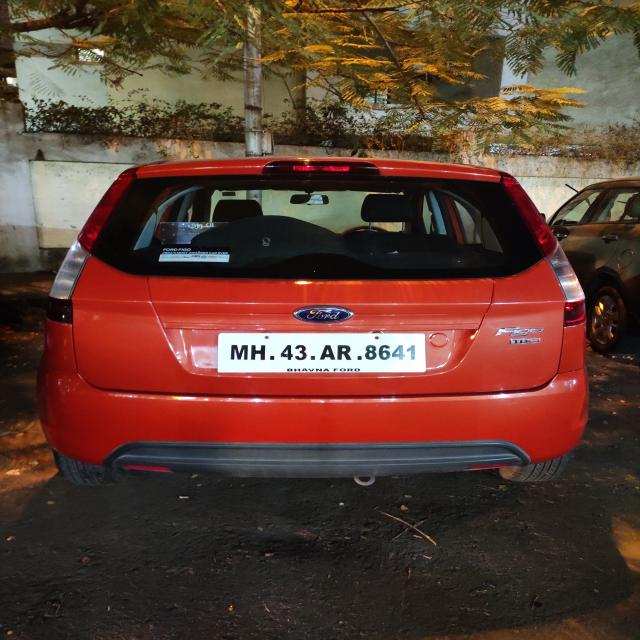Number-Plate: (214, 335, 428, 373)
